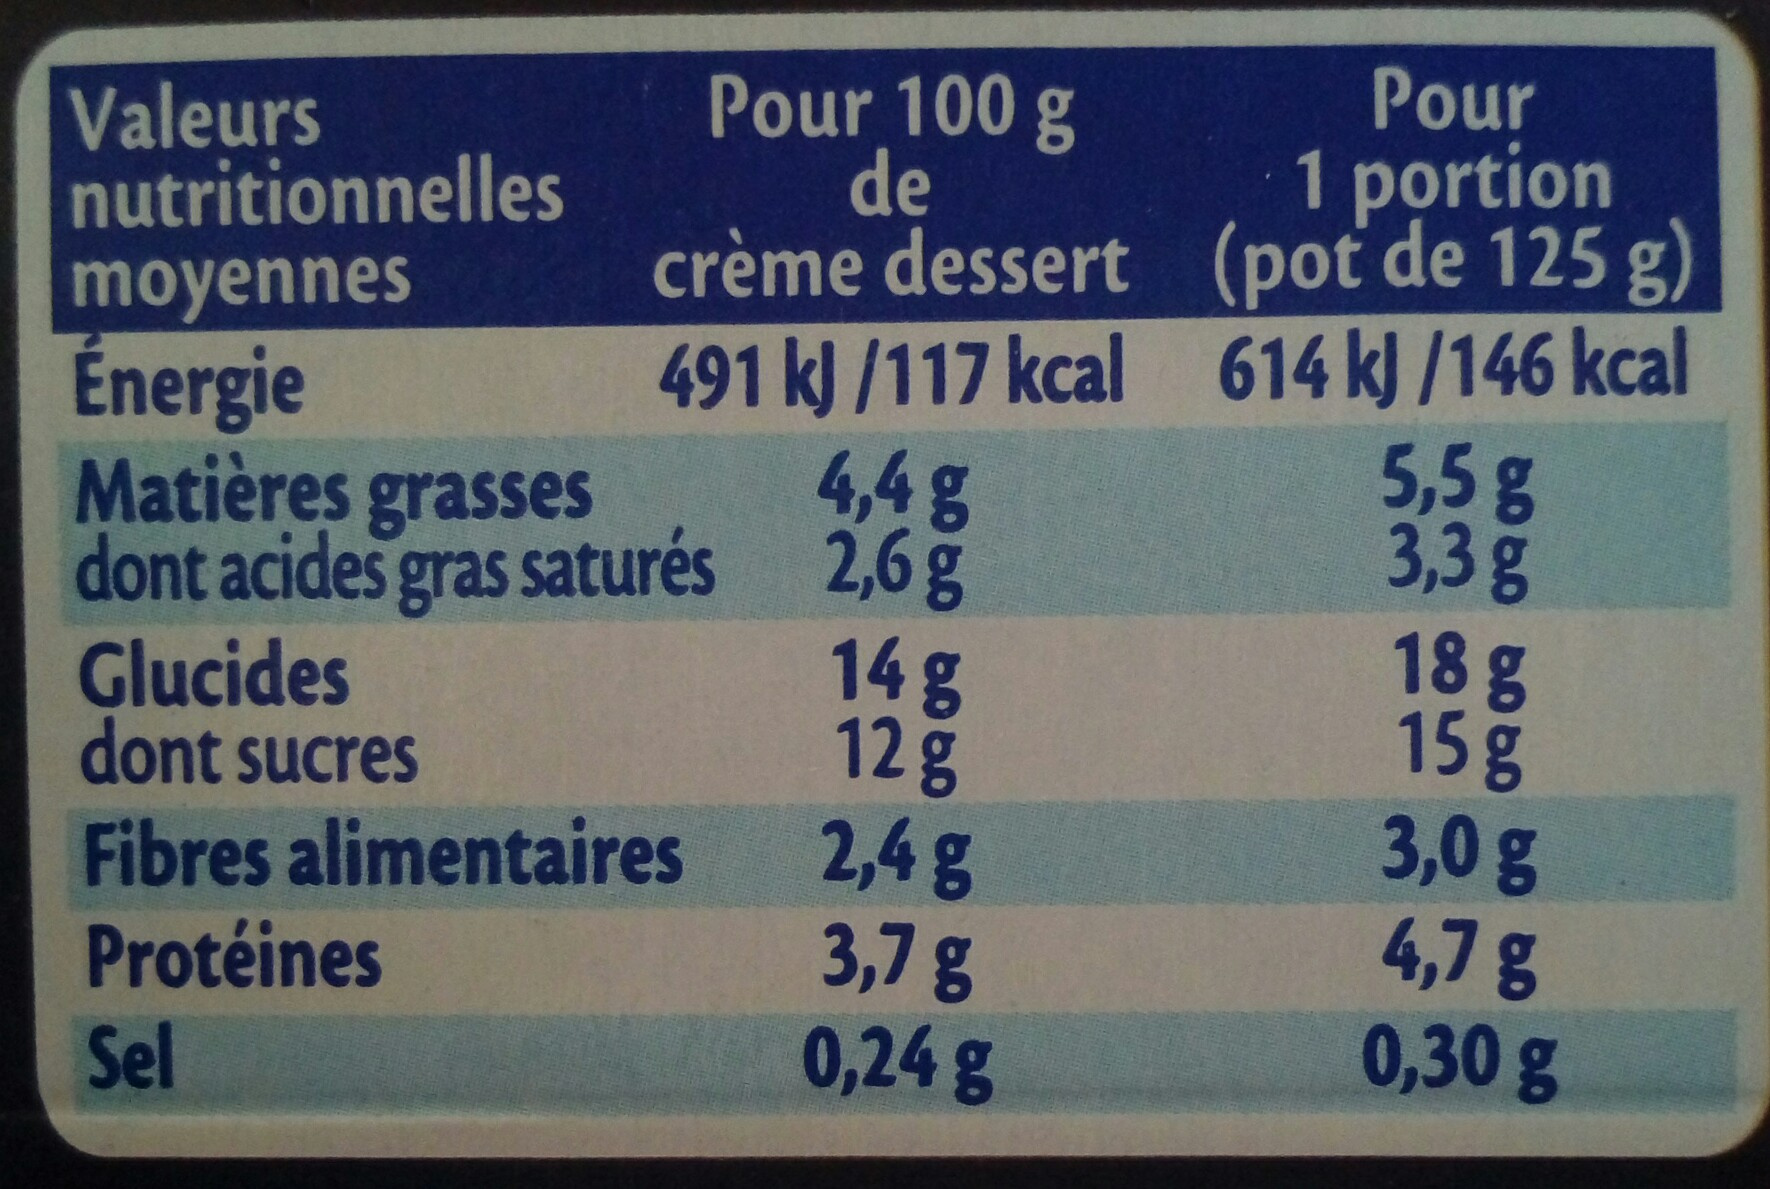column: (62, 438, 718, 1129), (1361, 426, 1558, 1113), (800, 437, 996, 1108)
table: (49, 38, 1733, 1123)
